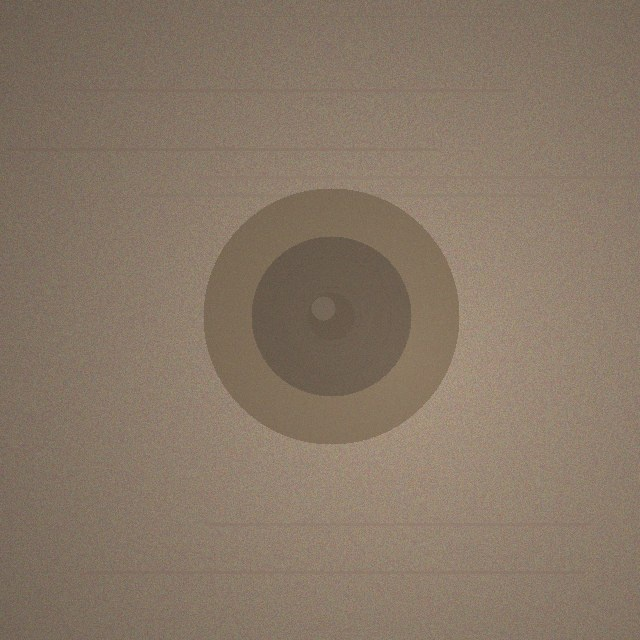good: (203, 188, 459, 444)
